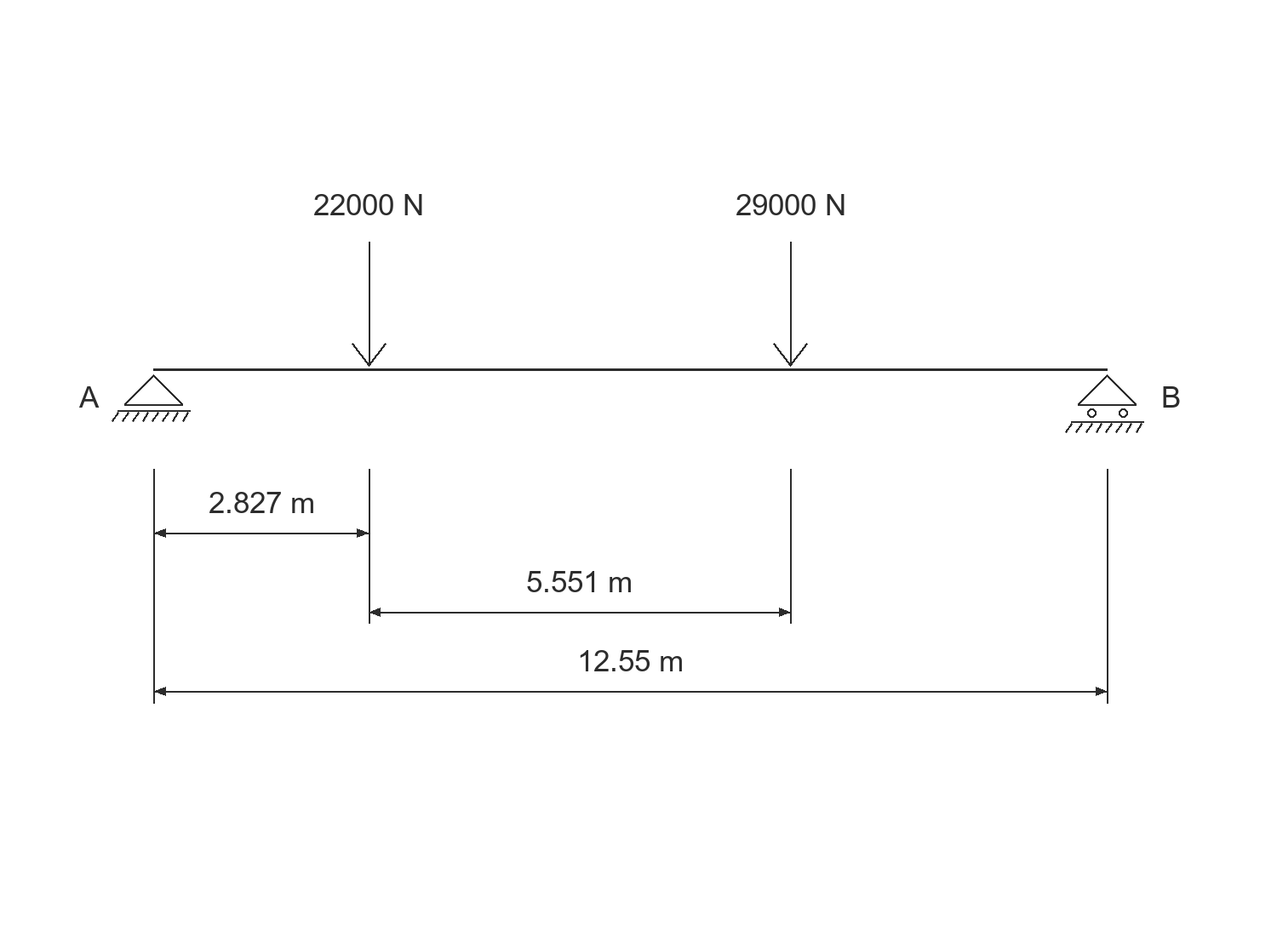pin_support: (112, 374, 191, 422)
point_load: (352, 242, 387, 367), (773, 242, 808, 367)
roller_support: (1065, 374, 1144, 433)
